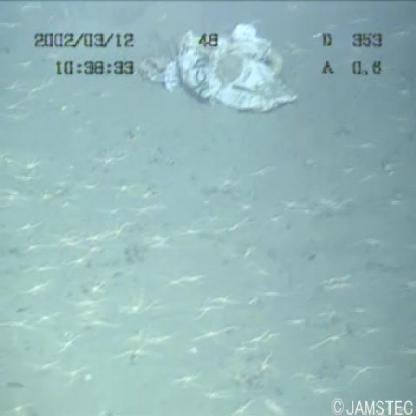Rác: (120, 18, 304, 125)
